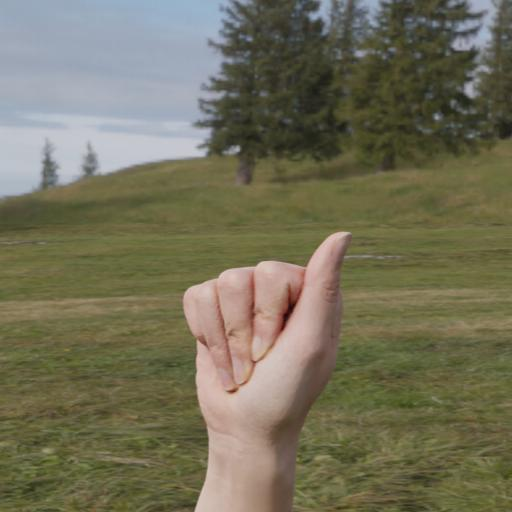A: (162, 217, 368, 434)
